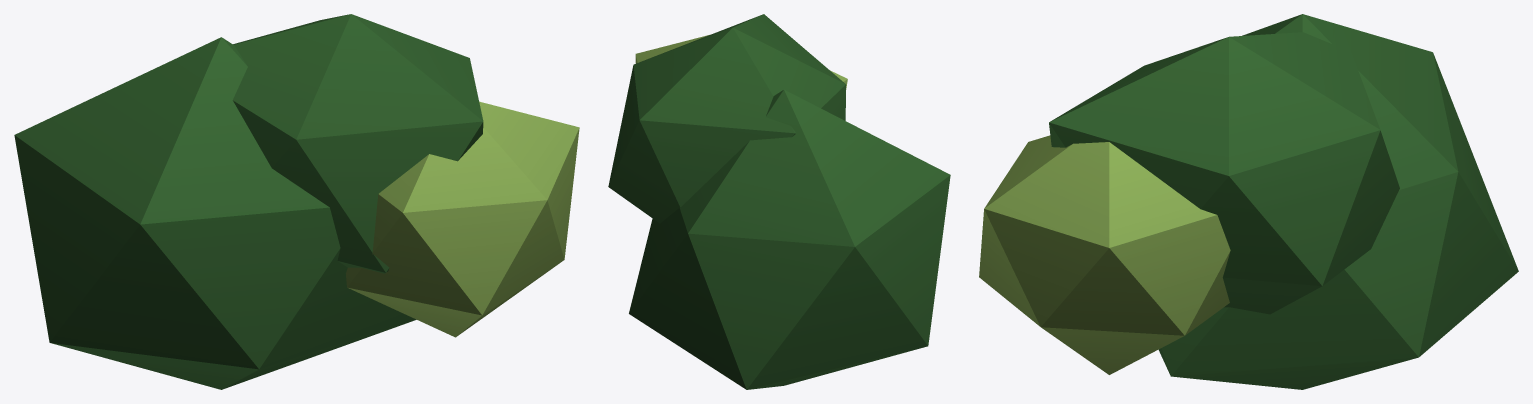
Rendered from bush_2.glb.
3 renders of one model, left to right at view 1: azimuth 30°, elevation 25°; view 2: azimuth 150°, elevation 25°; view 3: azimuth 270°, elevation 25°, orthographic. The views are drawn at different scales.
Visible parts, largest first — view 1: bush_2; view 2: bush_2; view 3: bush_2.
Boxes of the visible parts, left/top/right/bottom form: bush_2: left=14, top=14, right=579, bottom=389; bush_2: left=608, top=14, right=950, bottom=389; bush_2: left=979, top=14, right=1518, bottom=389.
Bounding box in the file's own units: 0.7563 × 0.6218 × 0.7554.
1 material, 1 textured.
